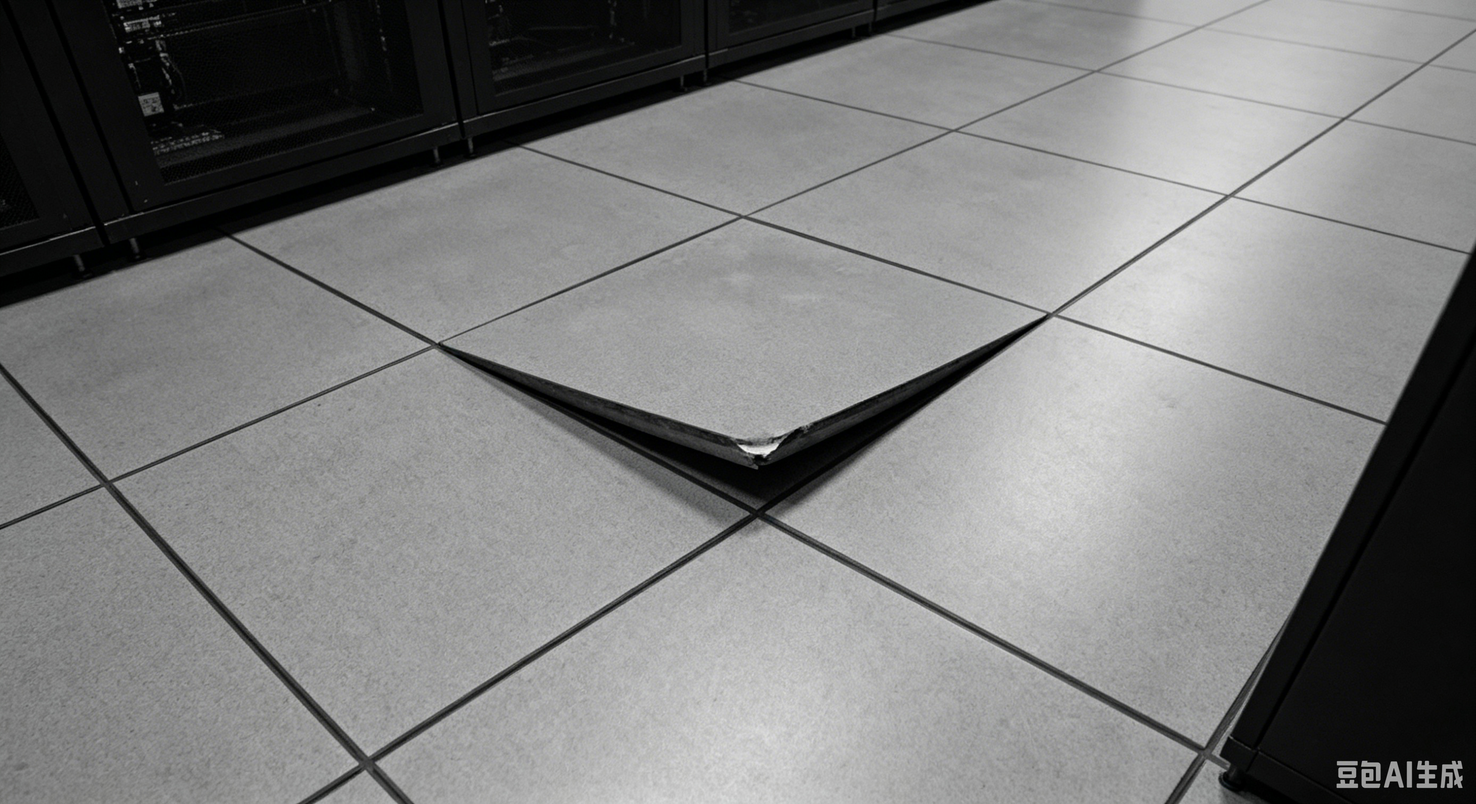floor_defect: (440, 331, 802, 521), (808, 374, 923, 492), (923, 318, 1077, 395)
